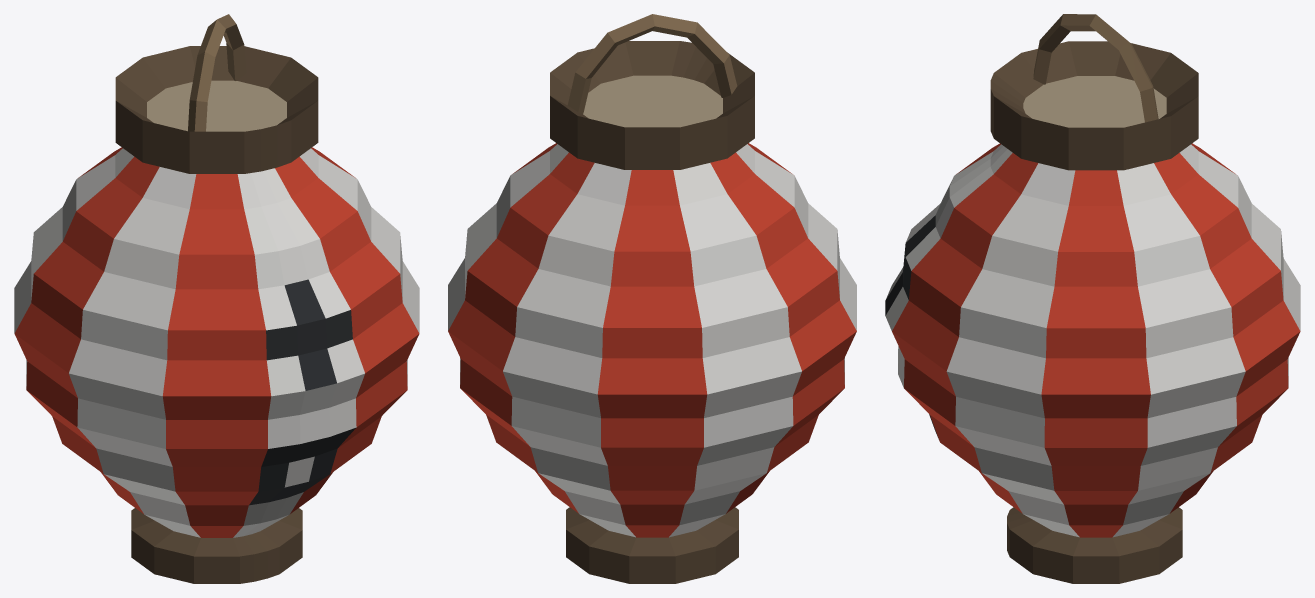
The model's file is paper-lantern-3387e9.glb.
The picture shows the model from 3 angles, left to right: view 1: azimuth 30°, elevation 25°; view 2: azimuth 150°, elevation 25°; view 3: azimuth 270°, elevation 25°; orthographic projection.
Visible parts, largest first — view 1: paper-lantern-mesh; view 2: paper-lantern-mesh; view 3: paper-lantern-mesh.
Boxes of the visible parts, bbox=[...] form: paper-lantern-mesh: bbox=[14, 14, 419, 583]; paper-lantern-mesh: bbox=[448, 14, 856, 583]; paper-lantern-mesh: bbox=[885, 14, 1300, 583].
Bounding box in the file's own units: 0.3471 × 0.4996 × 0.3526.
